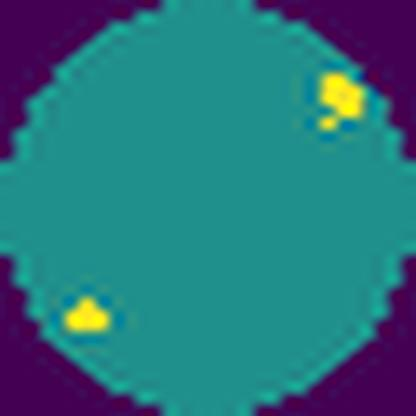Loc: (308, 72, 366, 136), (61, 287, 119, 339)
